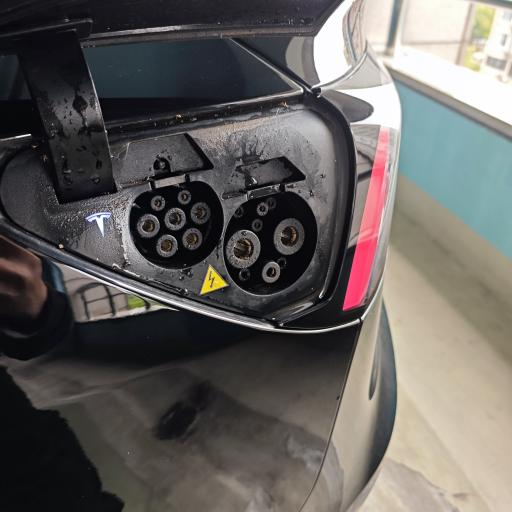AC_charging_hole: (128, 178, 226, 274)
DC_charging_port: (222, 189, 319, 298)
DC_hole: (226, 228, 262, 270), (272, 216, 306, 256)
PE: (261, 260, 282, 285)
